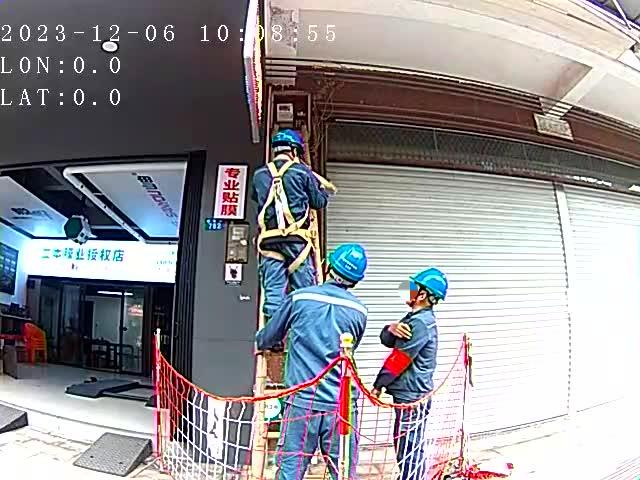halt: (408, 270, 451, 313), (328, 246, 372, 287), (273, 132, 309, 164)
inear: (409, 288, 431, 307)
